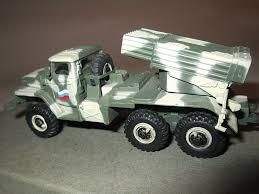MIL_SAM_TEL: (12, 28, 252, 158)
